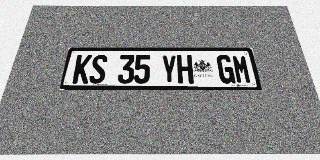3: (117, 55, 135, 84)
5: (134, 55, 150, 84)
G: (216, 55, 236, 84)
H: (177, 55, 194, 84)
K: (72, 55, 92, 84)
M: (231, 55, 252, 84)
S: (88, 55, 108, 84)
Y: (161, 55, 177, 84)
